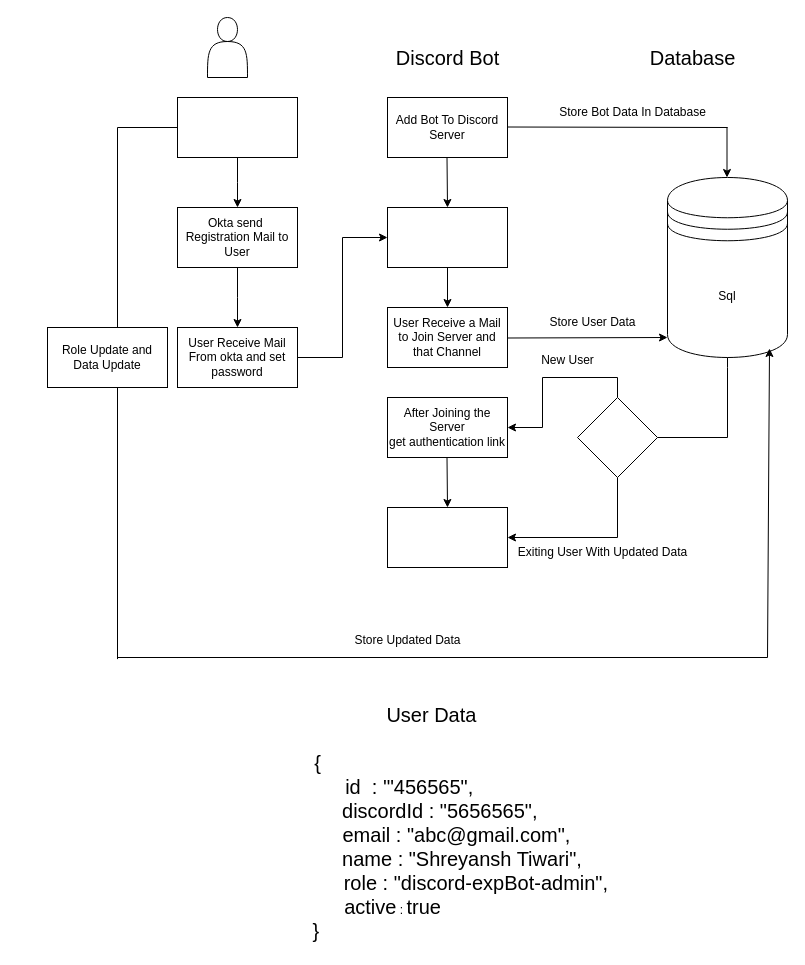
The diagram is 805 pixels wide and 965 high, and some of its shapes have lost their labels. Here are the shapes that lost their labels. From the top down, the box of each, then its label:
(176, 96, 298, 158): Admin Add User into Okta
(386, 206, 508, 268): Bot Fetch Logs For User Using Webhook After Registration
(576, 396, 658, 478): User
(386, 506, 508, 568): User Successfully Added Into Server & Channel
